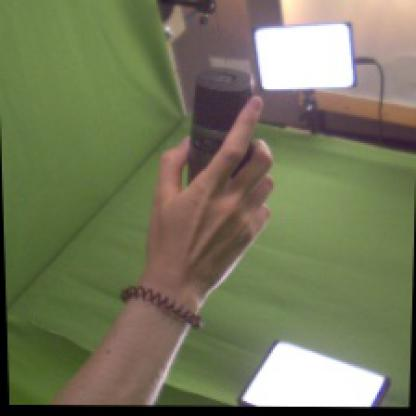Hand: (145, 94, 277, 300)
